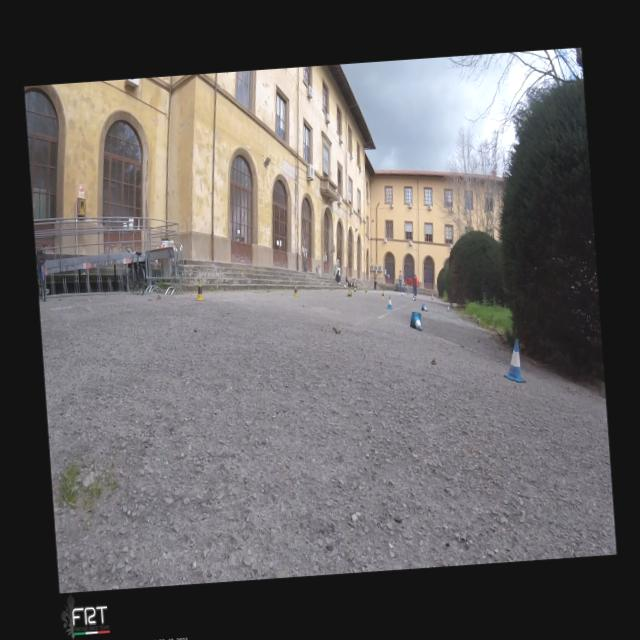blue_cone: (502, 337, 524, 382), (410, 311, 422, 331), (385, 294, 393, 308), (421, 303, 428, 311), (446, 303, 450, 311), (411, 295, 415, 300)
large_orange_cone: (430, 292, 433, 300)
yellow_cone: (193, 281, 205, 300), (292, 284, 299, 296), (380, 290, 385, 298), (346, 290, 352, 296), (364, 288, 367, 294)
